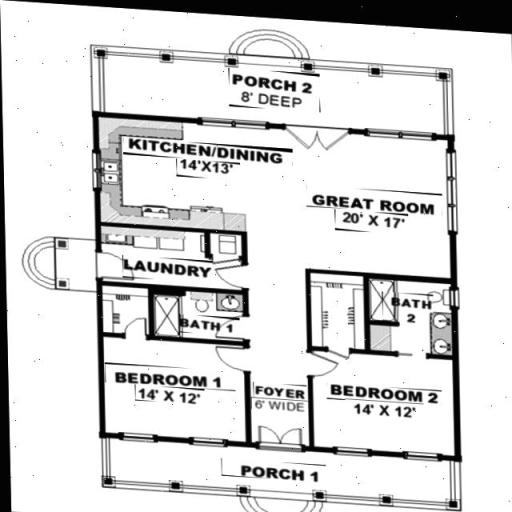bathroom: (312, 278, 449, 350), (148, 294, 254, 352)
bedroom: (101, 340, 267, 447), (319, 346, 453, 448)
hall: (297, 138, 453, 280)
kitchen: (117, 126, 285, 234)
laundary: (73, 240, 315, 288)
porch: (98, 56, 451, 141)
